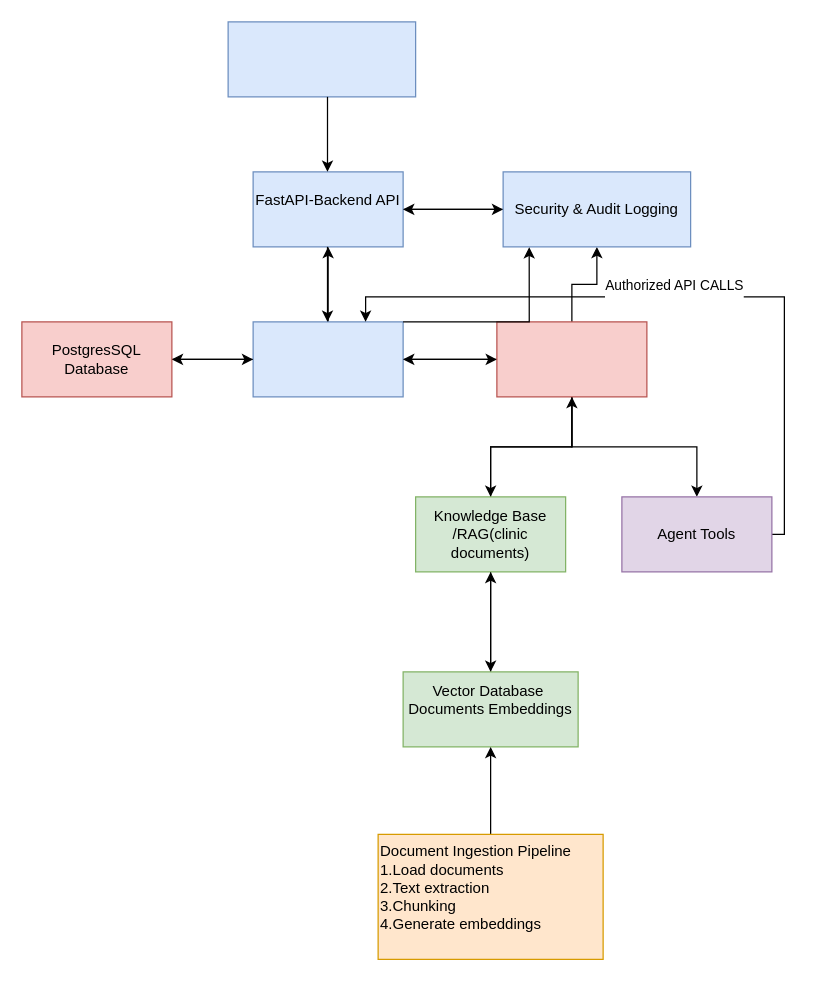
This 816x981 diagram has some shape labels left out. Here are the shapes that lost their labels. From the top down, the centre of each, then its label:
At (321,59): "Clinic staff Reception/Clinic oprator".
At (327,359): "Business Logic (business rule,workflow)".
At (571,359): "AI Agent (LLM.TOOL CALLING.DECISION FLOW)".
